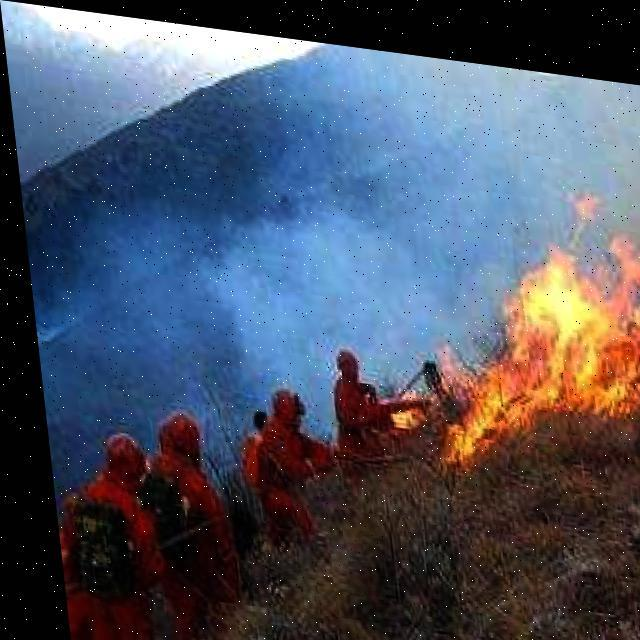Fire: (406, 175, 639, 480)
